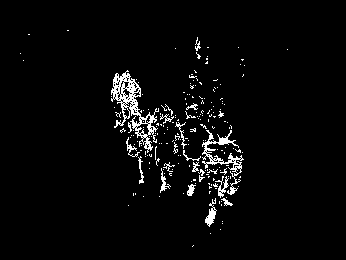person: (205, 120, 244, 229), (182, 102, 211, 203), (153, 99, 183, 189), (128, 102, 155, 189), (119, 69, 140, 138)
